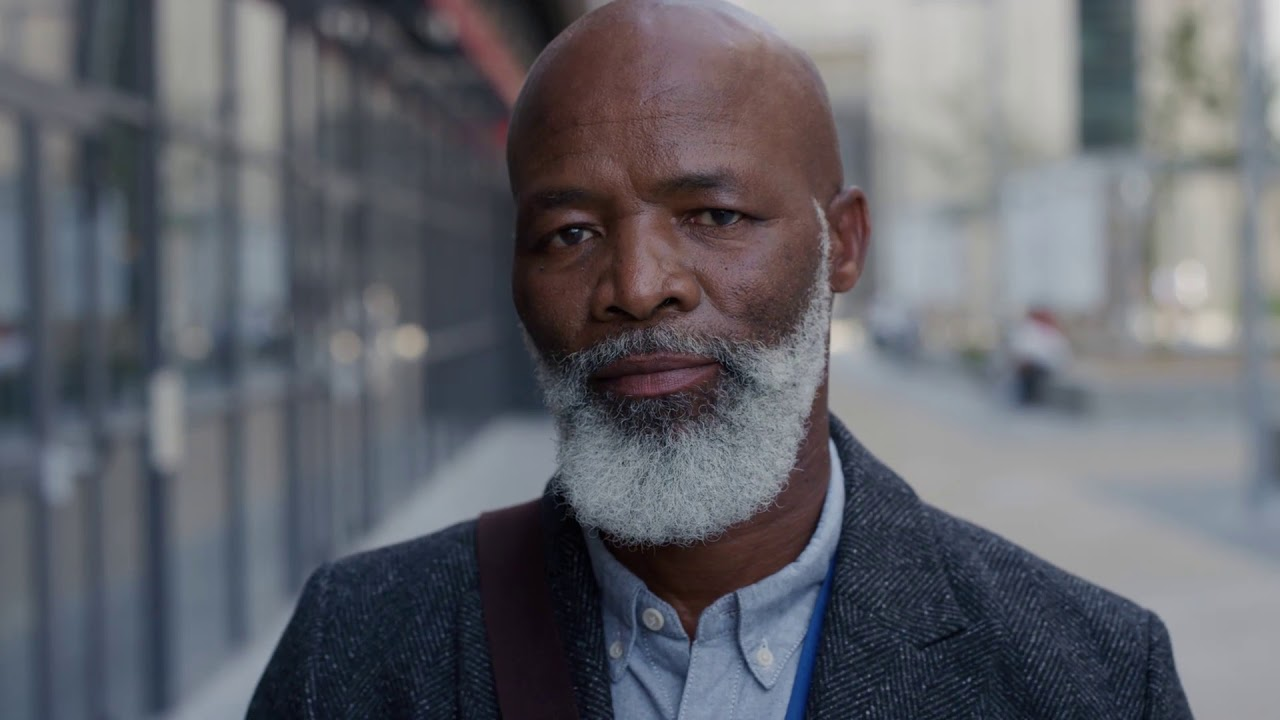Without Helmet: (489, 1, 875, 560)
